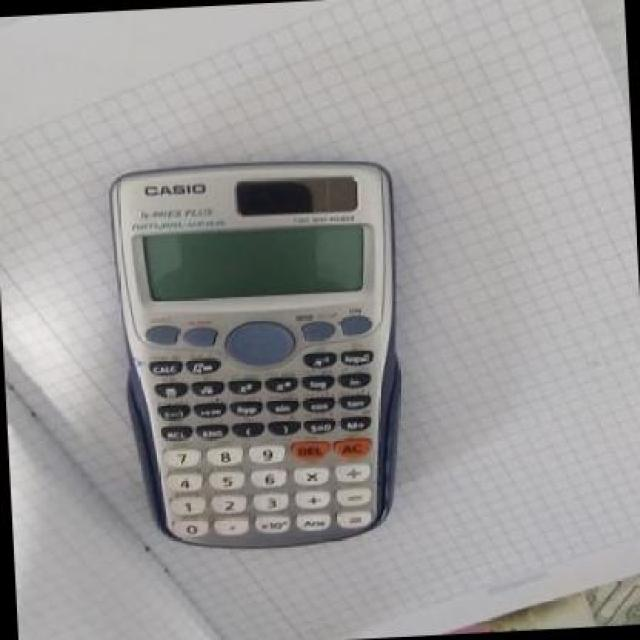Calculator: (108, 150, 412, 558)
